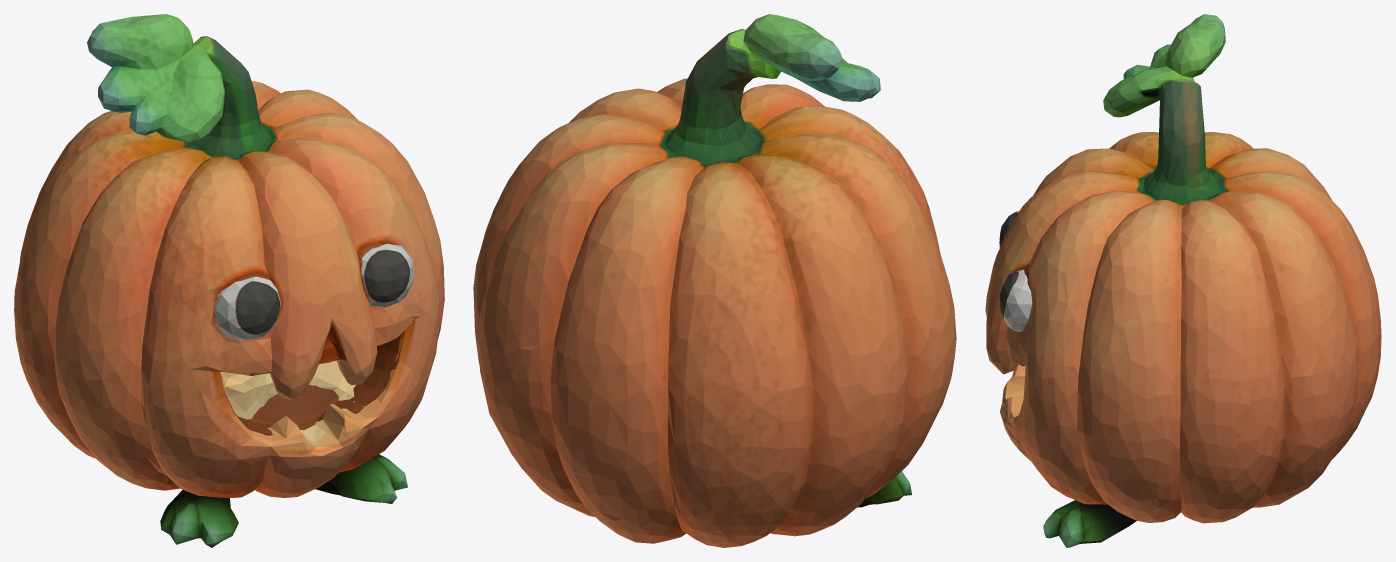
File: pumpkin.glb
3 views of the same model, side by side, from view 1: azimuth 30°, elevation 25°; view 2: azimuth 150°, elevation 25°; view 3: azimuth 270°, elevation 25° (orthographic). The views are drawn at different scales.
Parts seen in each view (by area): view 1: Pumpkin_pumpkin body, Pumpkin_carved face, Pumpkin_legs; view 2: Pumpkin_pumpkin body, Pumpkin_legs; view 3: Pumpkin_pumpkin body, Pumpkin_legs, Pumpkin_carved face.
Part boxes in pixels (x1,y1,x2,y2): Pumpkin_pumpkin body: (14, 14, 444, 497); Pumpkin_carved face: (214, 243, 416, 435); Pumpkin_legs: (160, 454, 407, 547); Pumpkin_pumpkin body: (473, 14, 956, 547); Pumpkin_legs: (857, 471, 911, 507); Pumpkin_pumpkin body: (985, 14, 1381, 523); Pumpkin_legs: (1043, 500, 1136, 547); Pumpkin_carved face: (999, 210, 1032, 366).
Bounding box in the file's own units: 4.03 × 4.87 × 4.
Materials: 3 (3 with a texture image).
